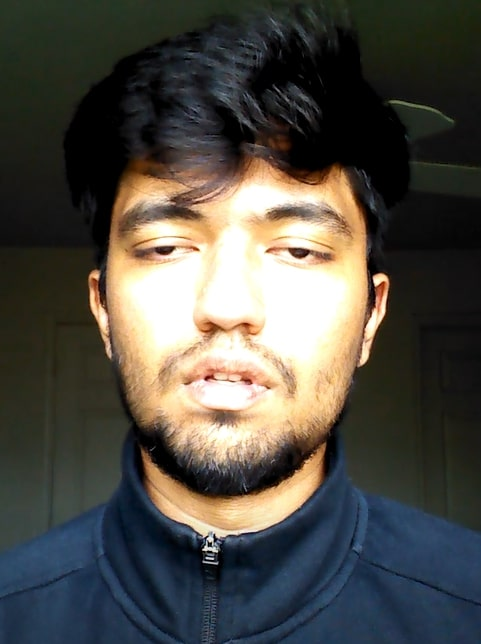Half Asleep: (110, 198, 367, 293)
